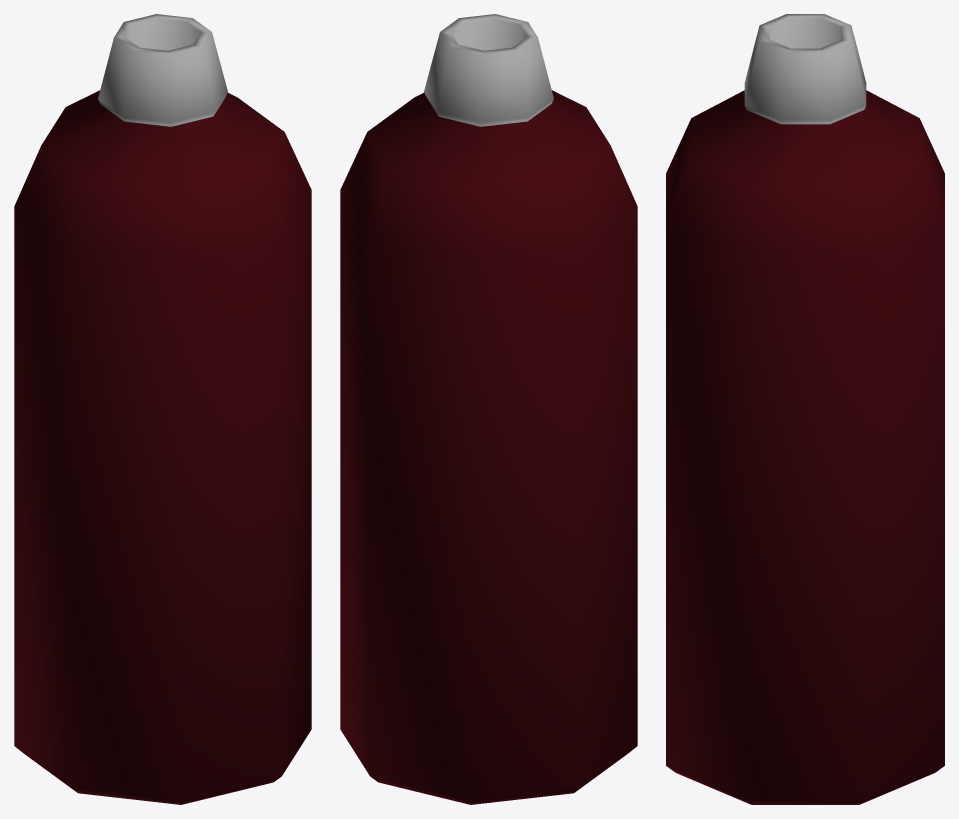
The model's file is Bottle.fbx.
3 views of the same model, side by side, from view 1: azimuth 30°, elevation 25°; view 2: azimuth 150°, elevation 25°; view 3: azimuth 270°, elevation 25° (orthographic).
Parts seen in each view (by area): view 1: Bottle; view 2: Bottle; view 3: Bottle.
Part boxes in pixels (bbox=[...]): Bottle: bbox=[14, 14, 311, 804]; Bottle: bbox=[340, 14, 637, 804]; Bottle: bbox=[666, 14, 944, 804].
Bounding box in the file's own units: 0.0582 × 0.1652 × 0.0582.
